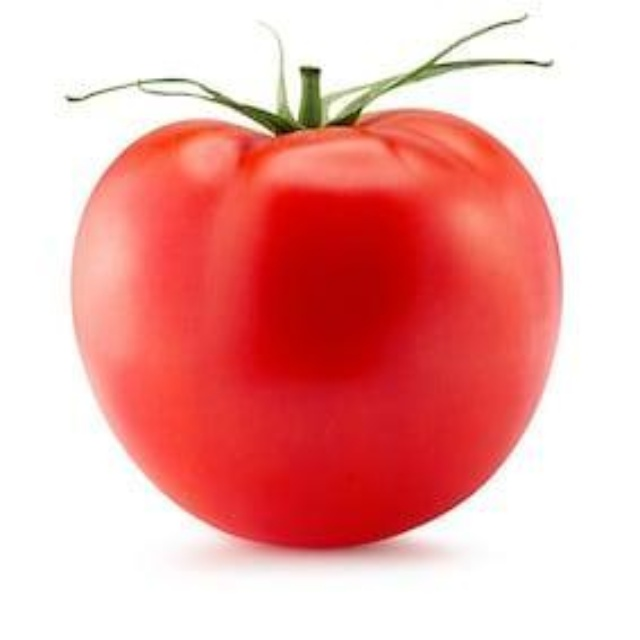tomato: (65, 28, 566, 555)
